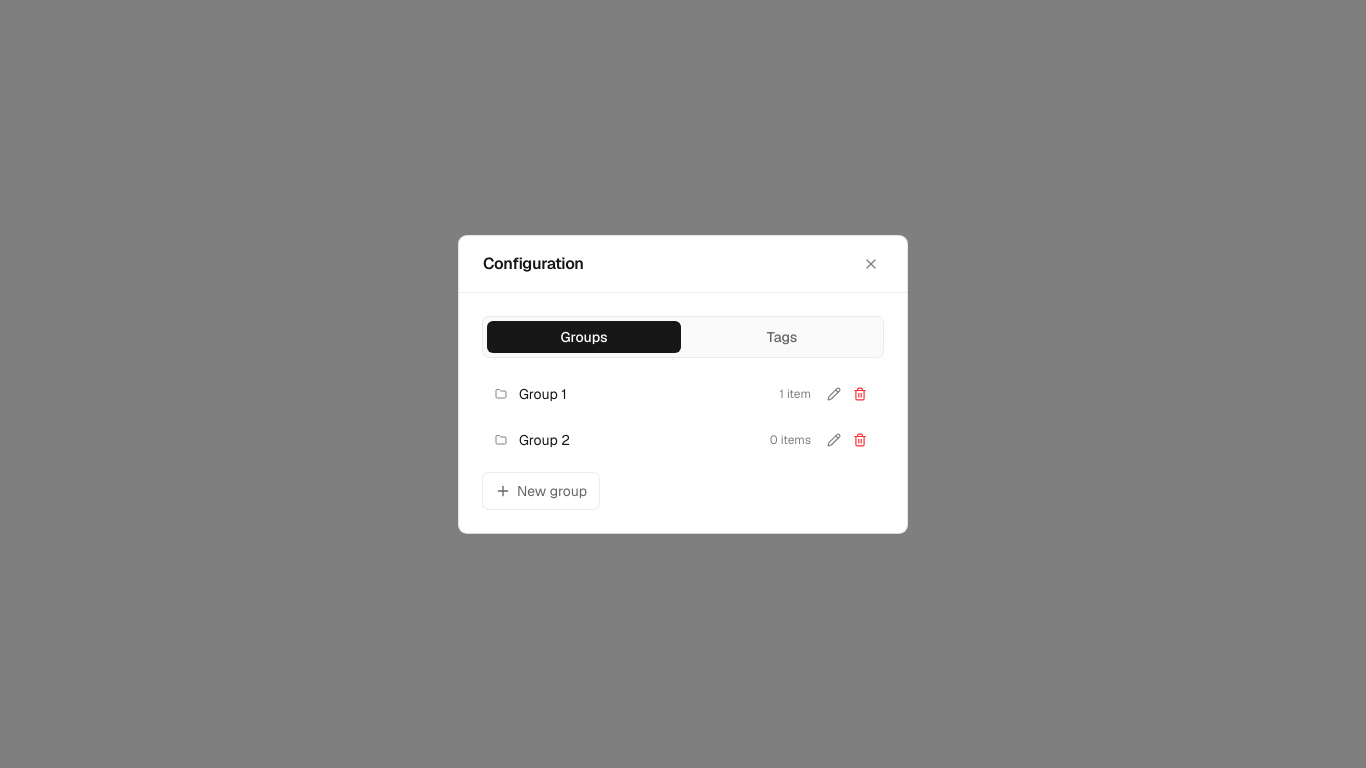
Test: ConfigurationModal › usage count › shows warning when deleting used item
Click the button named "Delete Group 1" at (860, 394), box [849,382,871,404]
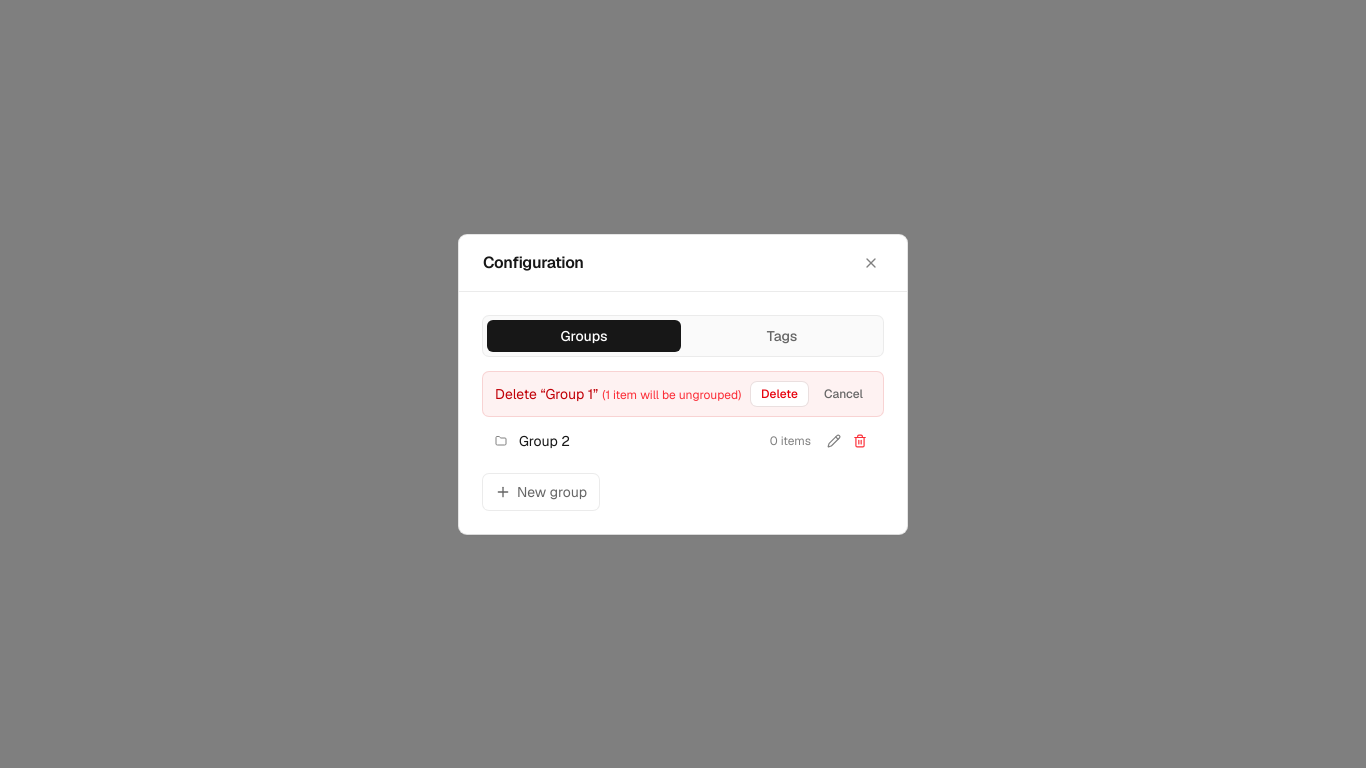
Check: the text "(1 item will be ungrouped)" is shown, box [602,386,741,402]
